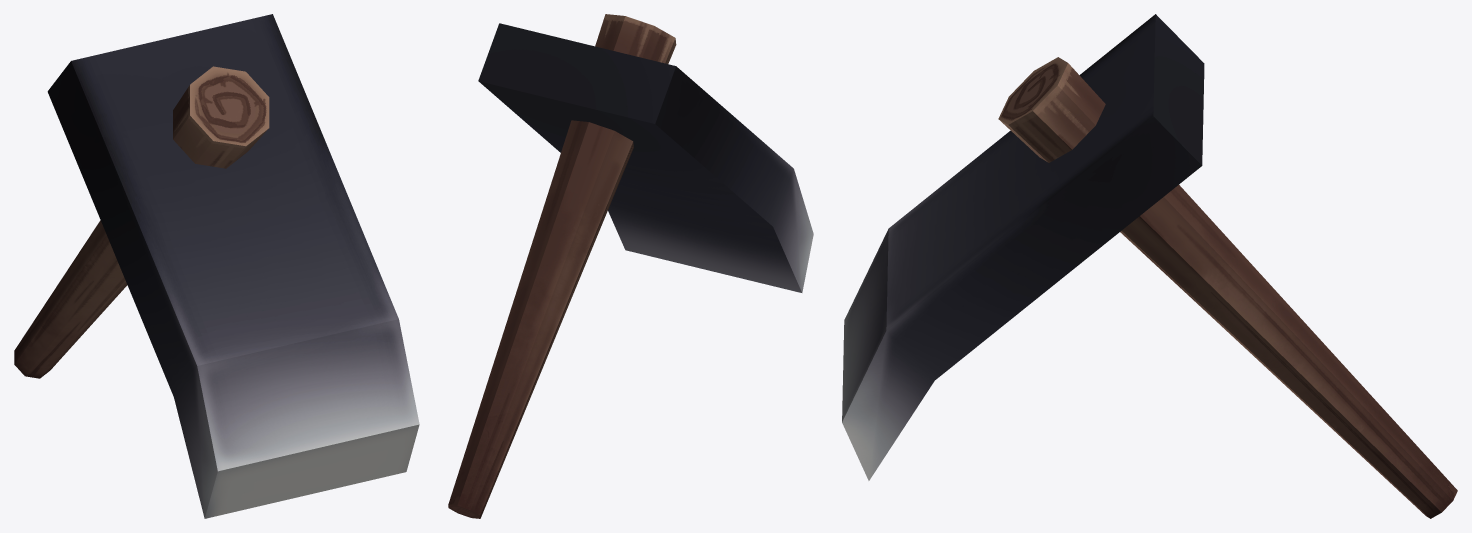
The model's file is Hoe.fbx.
3 views of the same model, side by side, from view 1: azimuth 30°, elevation 25°; view 2: azimuth 150°, elevation 25°; view 3: azimuth 270°, elevation 25° (orthographic). The views are drawn at different scales.
Visible parts, largest first — view 1: Tool_Pickaxe; view 2: Tool_Pickaxe; view 3: Tool_Pickaxe.
Boxes of the visible parts, x1=… form: Tool_Pickaxe: x1=14, y1=14, x2=419, y2=518; Tool_Pickaxe: x1=448, y1=14, x2=813, y2=518; Tool_Pickaxe: x1=842, y1=14, x2=1457, y2=518.
Bounding box in the file's own units: 2.44 × 4.99 × 6.15.
